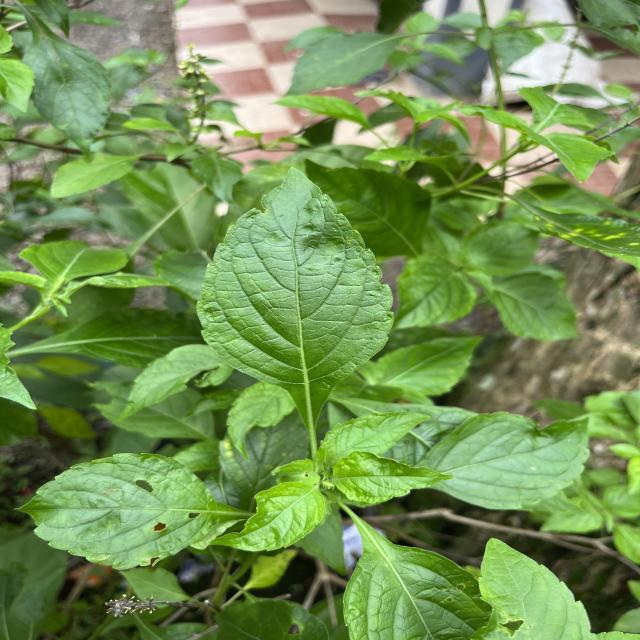Ocimum gratissimum: (190, 161, 400, 442), (8, 450, 242, 572), (339, 509, 531, 640), (414, 409, 598, 513), (202, 478, 331, 554), (308, 408, 437, 468), (326, 450, 456, 508)
